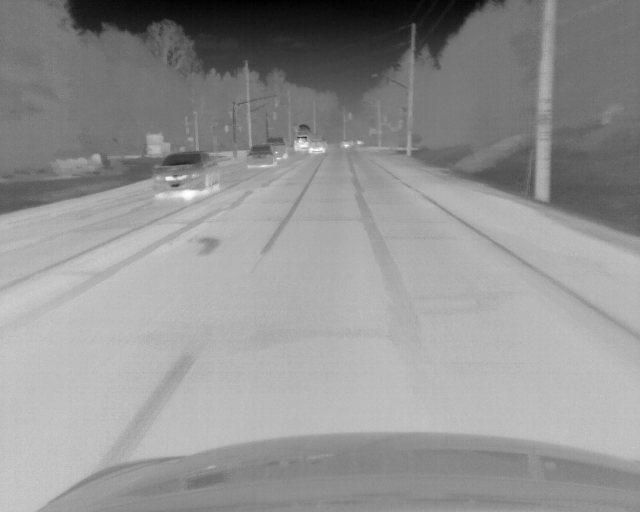car: (150, 151, 218, 194), (245, 146, 274, 167), (268, 138, 288, 161), (294, 125, 310, 151), (309, 138, 327, 154), (341, 139, 357, 151)
